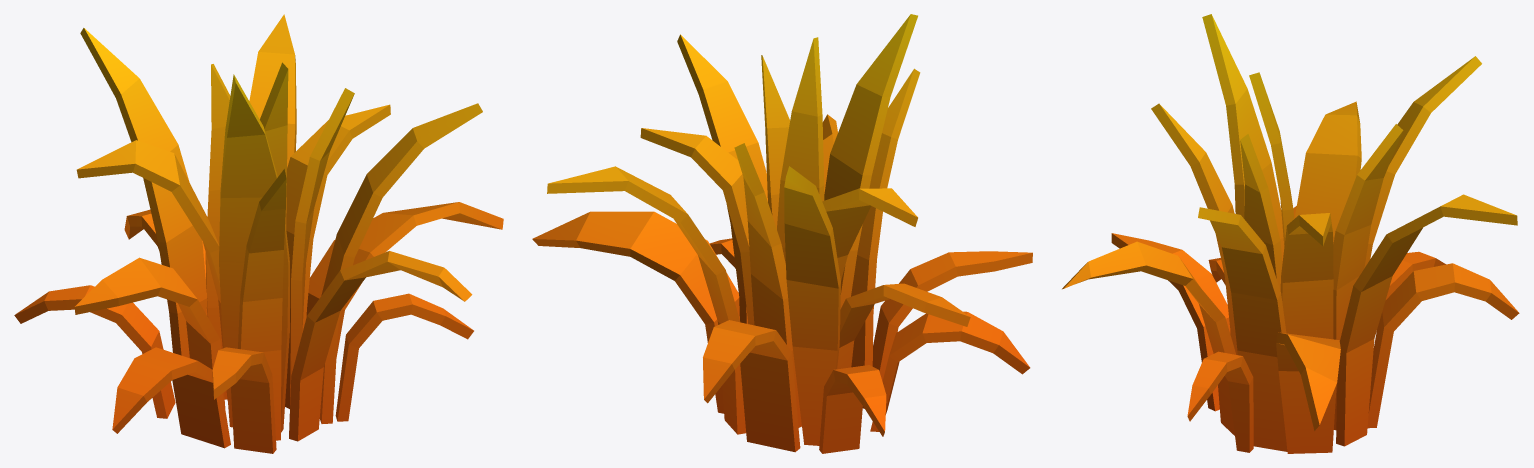
File: autumn shrub 2.fbx
The picture shows the model from 3 angles, left to right: view 1: azimuth 30°, elevation 25°; view 2: azimuth 150°, elevation 25°; view 3: azimuth 270°, elevation 25°; orthographic projection. The views are drawn at different scales.
Visible parts, largest first — view 1: autumn shrub 2; view 2: autumn shrub 2; view 3: autumn shrub 2.
Boxes of the visible parts, x1,y1,x2,y2 form: autumn shrub 2: [14, 14, 503, 453]; autumn shrub 2: [532, 14, 1032, 453]; autumn shrub 2: [1062, 14, 1519, 453].
Bounding box in the file's own units: 240 × 199 × 220.
